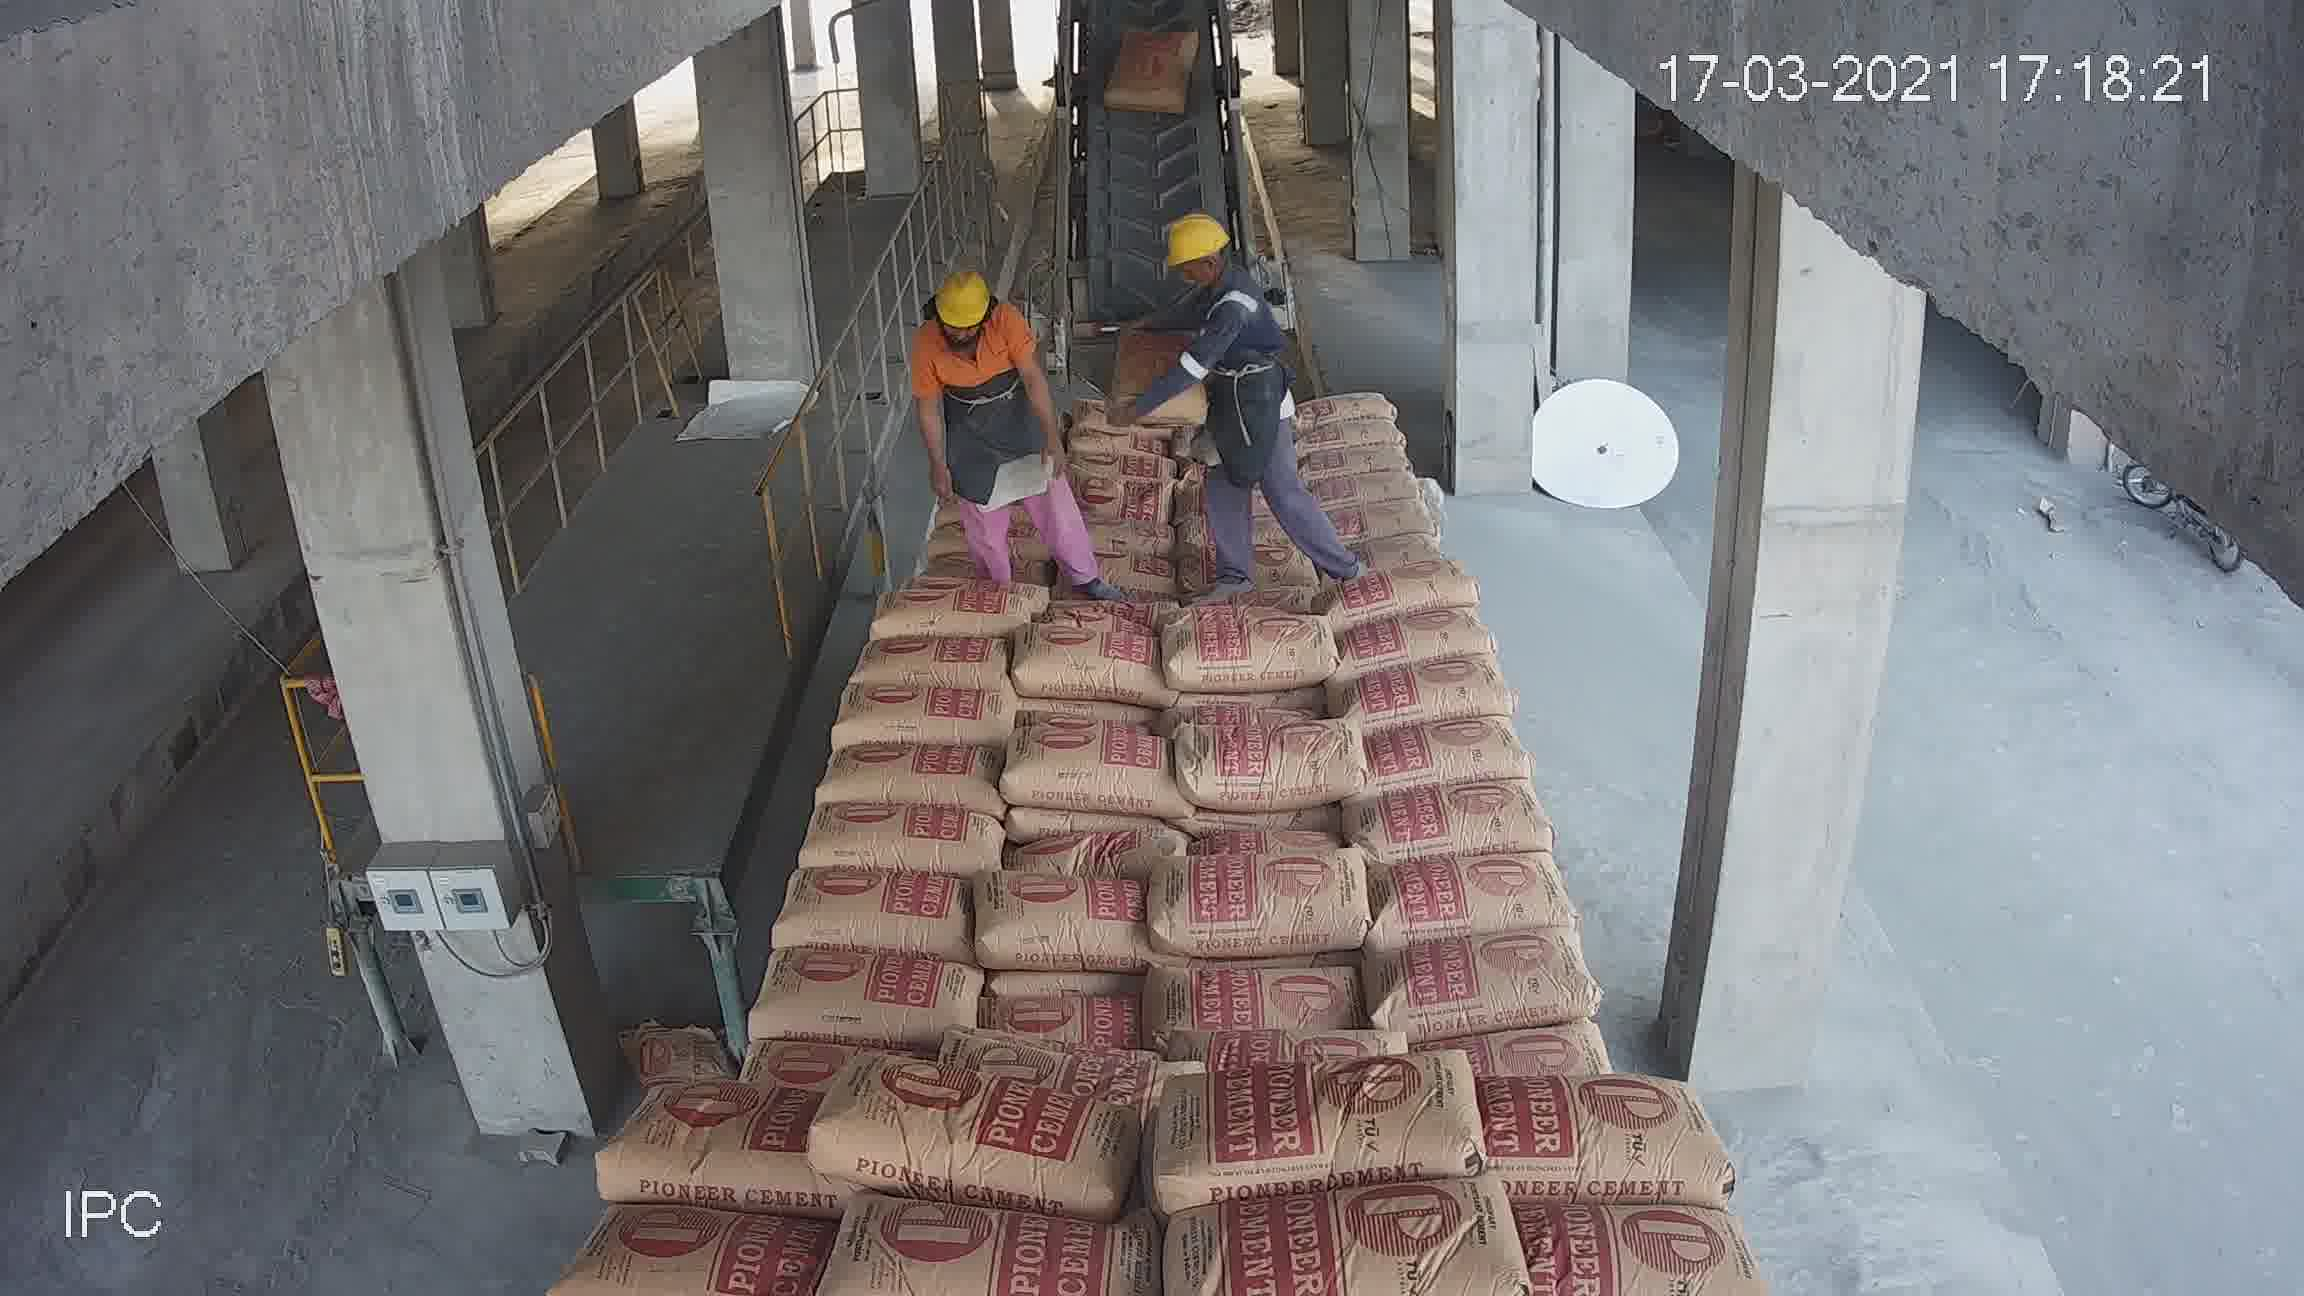bag: (1111, 28, 1199, 116)
bag_h: (801, 1041, 1161, 1196), (1139, 1040, 1486, 1188), (1468, 1079, 1742, 1207), (1154, 839, 1374, 965), (597, 1079, 809, 1206), (737, 940, 980, 1048), (1355, 937, 1600, 1033), (1362, 837, 1570, 949), (802, 779, 1002, 885), (1180, 714, 1366, 821), (975, 869, 1150, 981), (1161, 597, 1348, 696), (1157, 949, 1367, 1035), (779, 866, 976, 956), (1350, 771, 1563, 851), (1010, 718, 1171, 817), (1177, 1014, 1415, 1078), (1010, 614, 1165, 711), (805, 744, 1002, 817), (821, 677, 1014, 748), (948, 1029, 1152, 1095), (1345, 654, 1516, 733), (855, 576, 1052, 639), (1461, 1021, 1605, 1106), (1321, 546, 1476, 625), (1358, 723, 1535, 785), (991, 983, 1150, 1044), (1329, 612, 1499, 669), (847, 636, 1013, 692), (1280, 378, 1404, 434), (1318, 484, 1442, 535), (1293, 415, 1415, 462), (1302, 456, 1431, 498), (1301, 437, 1423, 476), (1054, 484, 1171, 525), (1059, 445, 1173, 486)
bag_v: (1109, 294, 1196, 429)
belt: (1055, 17, 1247, 408)
